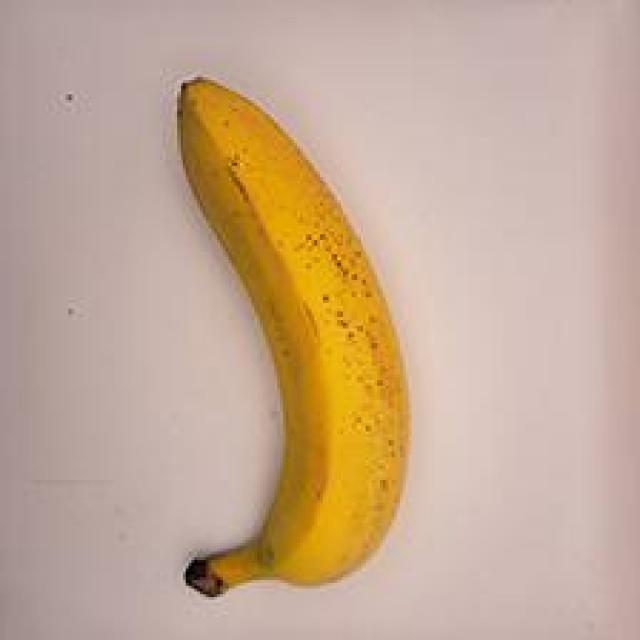Ripe: (113, 47, 435, 607)
